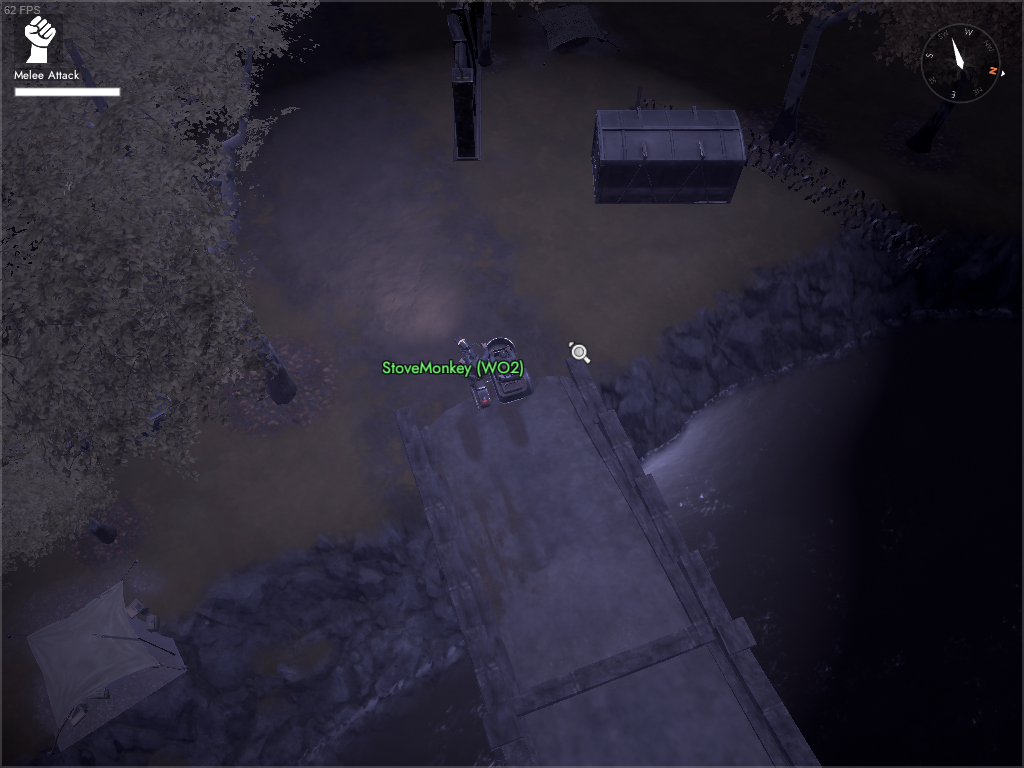container: (586, 104, 751, 209)
fortified_wall: (437, 1, 486, 164)
foxhole: (5, 554, 209, 763), (517, 1, 615, 70)
motorcycle: (453, 328, 538, 415)
player: (454, 339, 493, 386), (487, 344, 524, 386)
wire: (769, 136, 940, 278), (616, 85, 803, 183)
